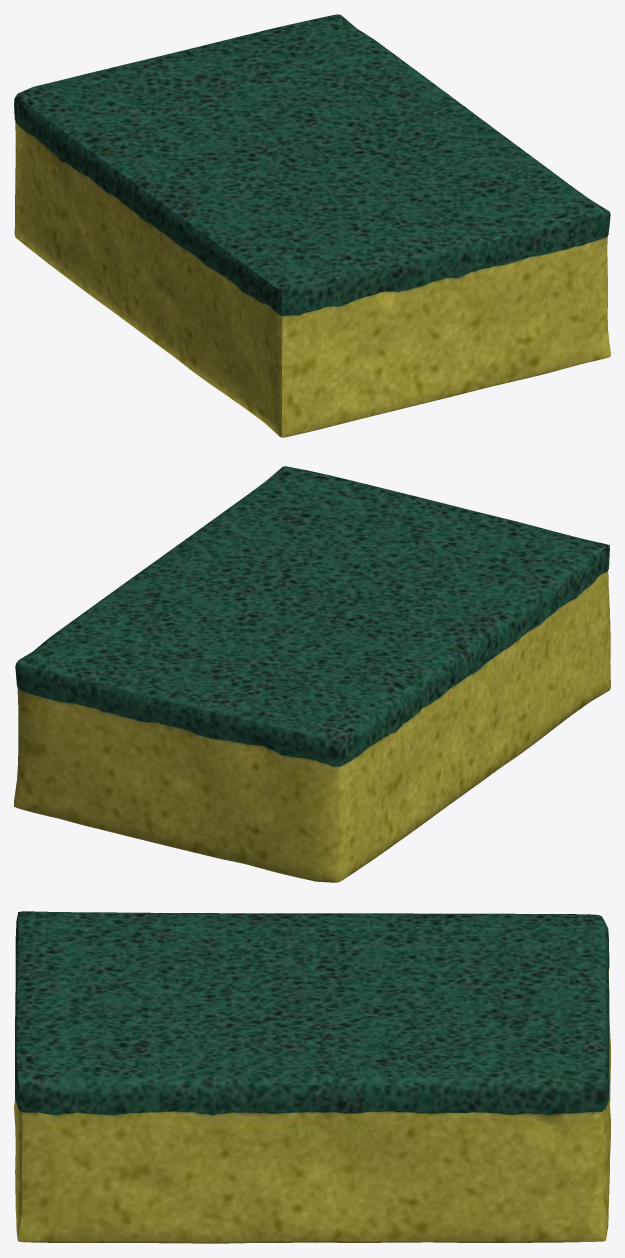
Rendered from cleaning_sponge_b01.glb.
The picture shows the model from 3 angles, top to bottom: view 1: azimuth 30°, elevation 25°; view 2: azimuth 150°, elevation 25°; view 3: azimuth 270°, elevation 25°; orthographic projection. The views are drawn at different scales.
Parts seen in each view (by area): view 1: part0; view 2: part0; view 3: part0.
Part boxes in pixels (<box>): part0: <box>14,14,610,437</box>; part0: <box>14,466,610,882</box>; part0: <box>14,911,610,1243</box>.
Bounding box in the file's own units: 0.0707 × 0.0329 × 0.1006.
Materials: 1 (1 with a texture image).
